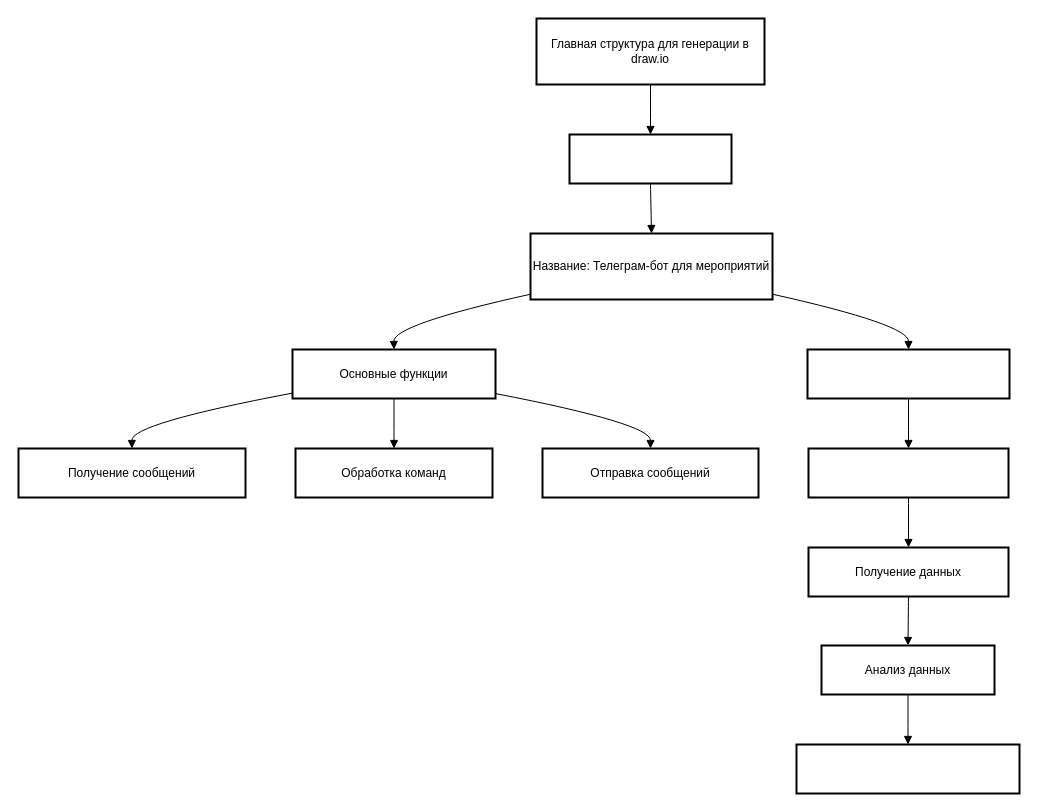
Image size: 1037x811. Some labels were removed from this diagram. The box of each missing label's shape, as (x1, y1, x2, y2) in pixels:
Главный блок: (568, 133, 732, 184)
Отправка запросов: (807, 447, 1009, 498)
Подключение к API: (806, 348, 1010, 399)
Формирование ответа: (795, 743, 1020, 794)
